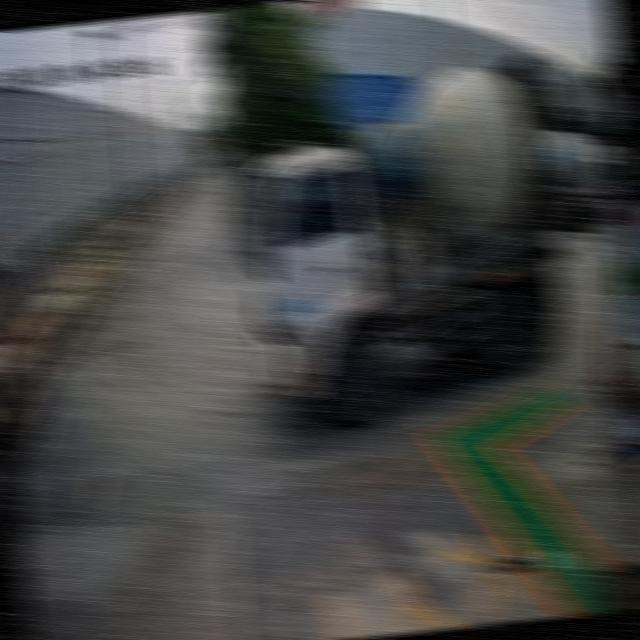cement_mixer_truck: (239, 53, 568, 426), (539, 130, 603, 230), (587, 157, 620, 222), (587, 143, 632, 177)
